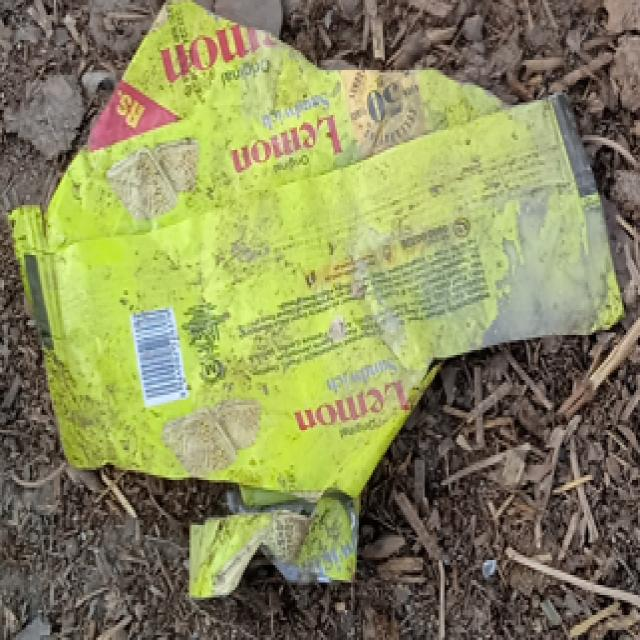electronic: (6, 0, 624, 598)
